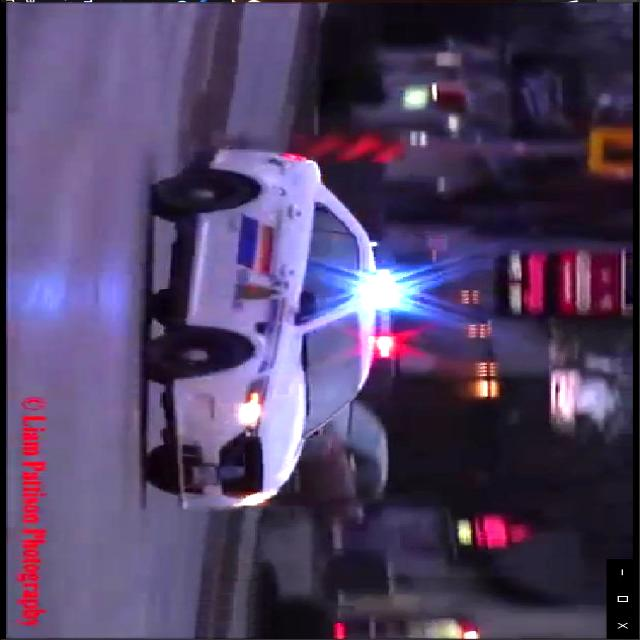emergency: (146, 148, 422, 512)
